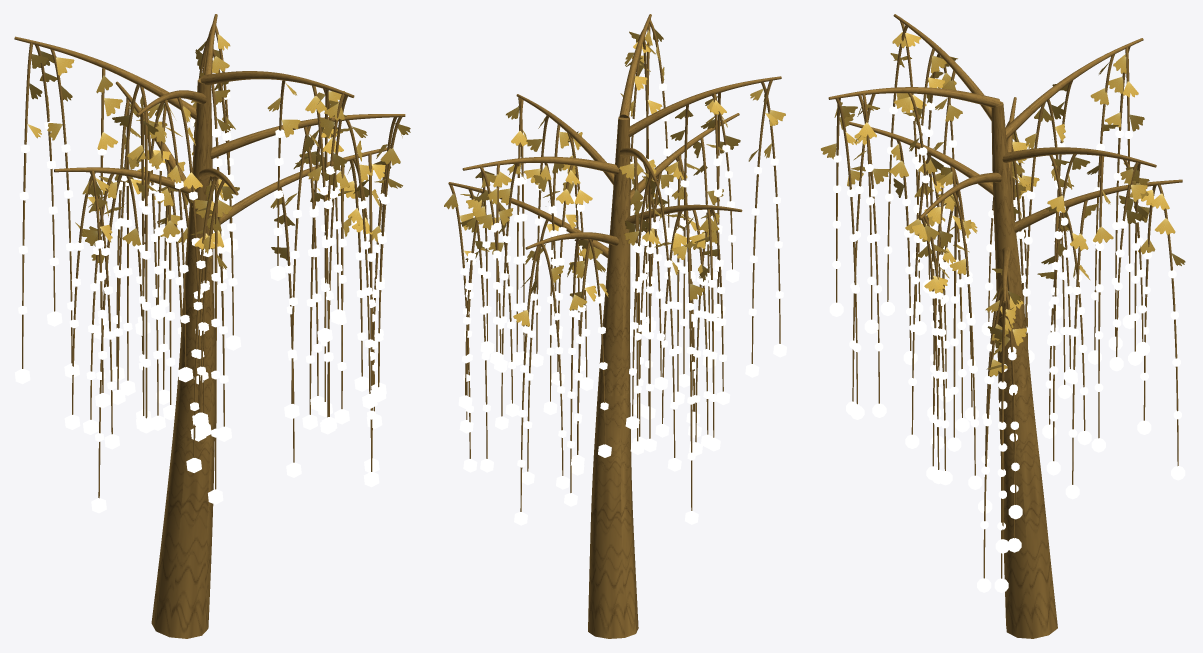
File: tree_weeping.glb
3 renders of one model, left to right at view 1: azimuth 30°, elevation 25°; view 2: azimuth 150°, elevation 25°; view 3: azimuth 270°, elevation 25°, orthographic. The views are drawn at different scales.
Parts seen in each view (by area): view 1: weeping, jewels, foliage; view 2: weeping, jewels, foliage; view 3: weeping, jewels, foliage.
Part boxes in pixels (bbox=[...]): weeping: bbox=[14, 14, 405, 638]; jewels: bbox=[15, 90, 389, 513]; foliage: bbox=[27, 34, 410, 269]; weeping: bbox=[448, 14, 781, 638]; jewels: bbox=[458, 83, 786, 525]; foliage: bbox=[444, 28, 785, 326]; weeping: bbox=[828, 14, 1182, 638]; jewels: bbox=[829, 102, 1185, 592]; foliage: bbox=[821, 32, 1185, 376].
Bounding box in the file's own units: 3.53 × 5.98 × 3.58.
Materials: 3 (2 with a texture image).
